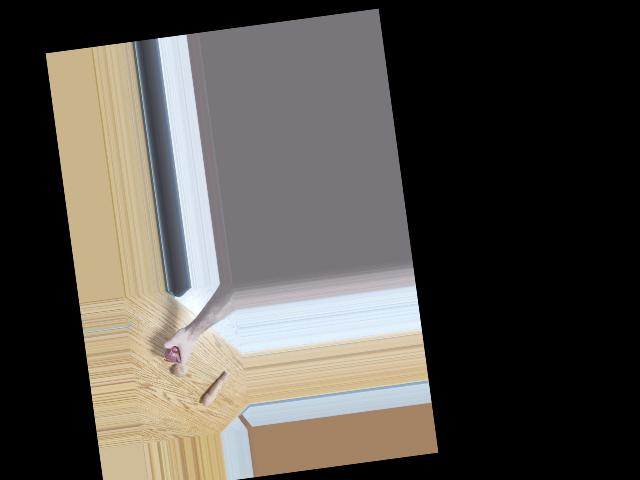onion: (171, 360, 188, 378)
